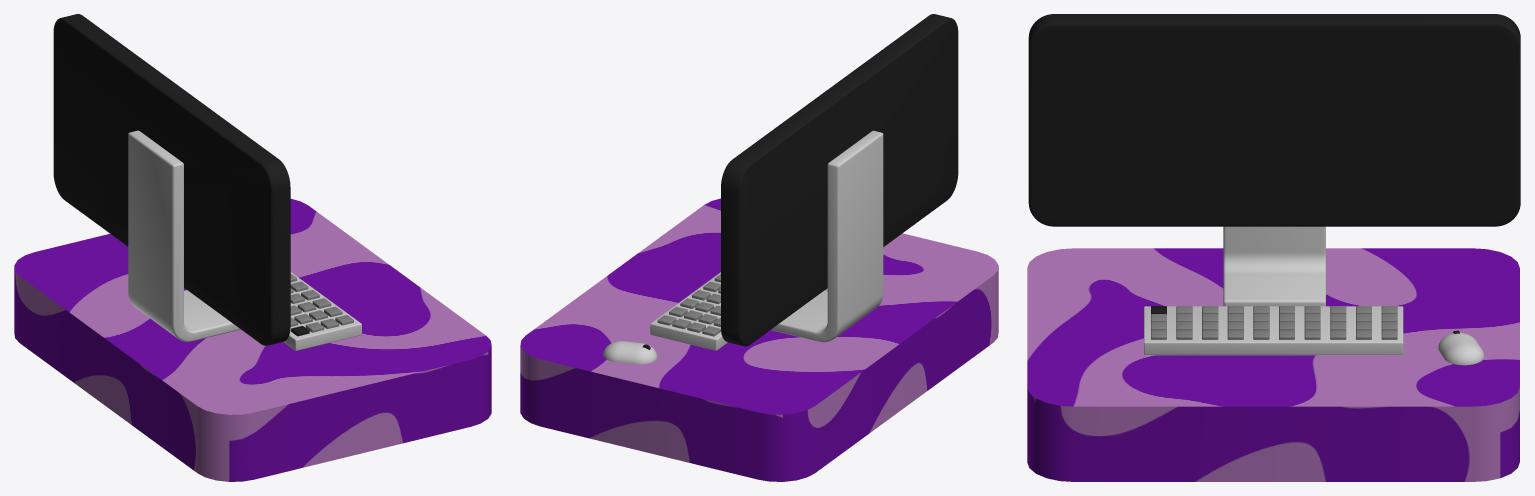
Rendered from Computer.fbx.
The picture shows the model from 3 angles, left to right: view 1: azimuth 30°, elevation 25°; view 2: azimuth 150°, elevation 25°; view 3: azimuth 270°, elevation 25°; orthographic projection. The views are drawn at different scales.
Parts seen in each view (by area): view 1: Computer; view 2: Computer; view 3: Computer.
Part boxes in pixels (left/top/right/bottom): Computer: left=14, top=14, right=491, bottom=481; Computer: left=520, top=14, right=998, bottom=481; Computer: left=1027, top=14, right=1520, bottom=481.
Size of the model in its own units: 80.59 by 80.78 by 106.
